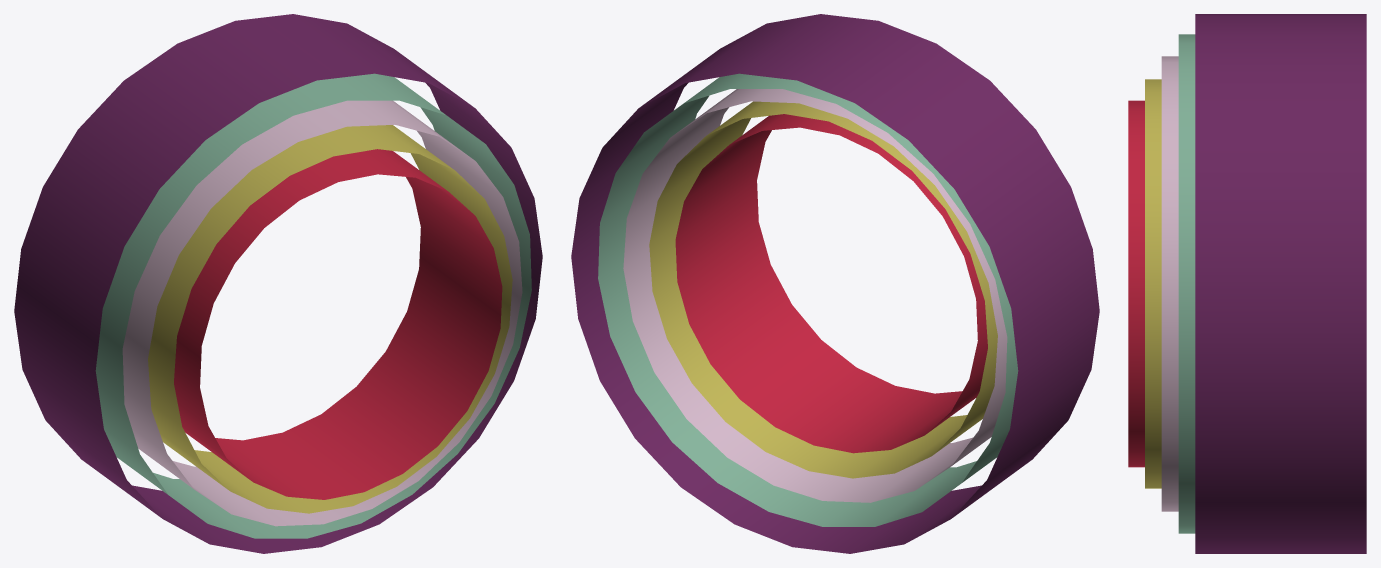
The model's file is FogCircle.fbx.
The picture shows the model from 3 angles, left to right: view 1: azimuth 30°, elevation 25°; view 2: azimuth 150°, elevation 25°; view 3: azimuth 270°, elevation 25°; orthographic projection. The views are drawn at different scales.
Visible parts, largest first — view 1: FogCircle; view 2: FogCircle; view 3: FogCircle.
Part boxes in pixels (bbox=[...]): FogCircle: bbox=[14, 14, 542, 553]; FogCircle: bbox=[571, 14, 1099, 553]; FogCircle: bbox=[1128, 14, 1366, 553].
Bounding box in the file's own units: 200 × 200 × 87.93.
